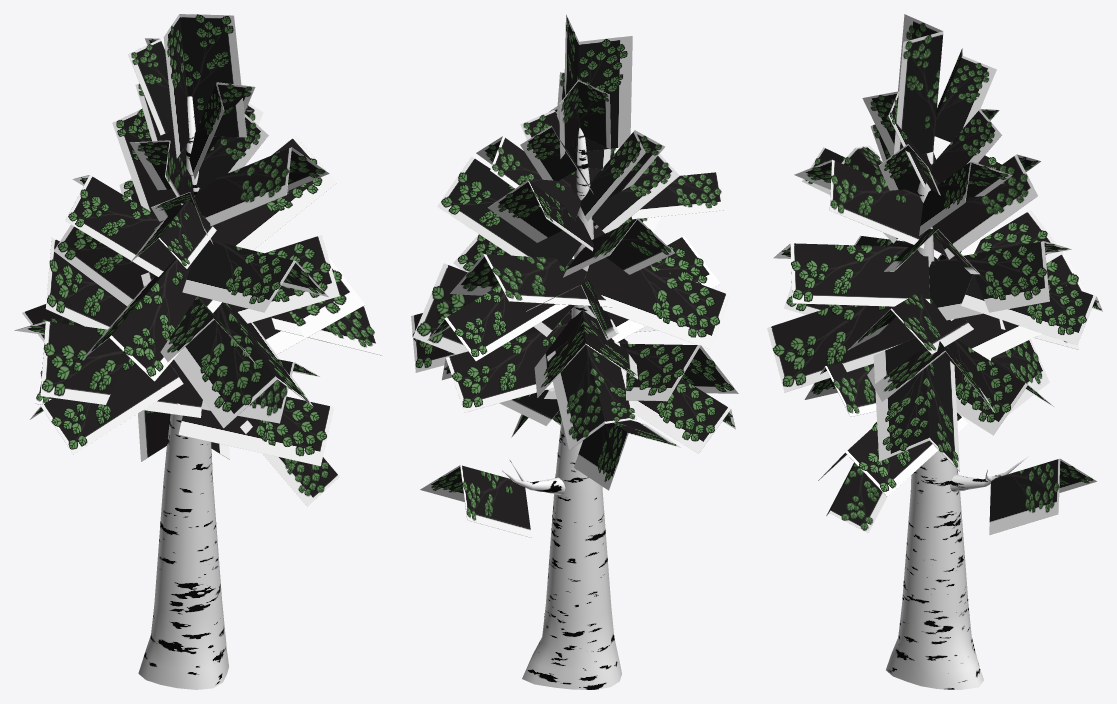
Rendered from birch_tree_2.fbx.
3 renders of one model, left to right at view 1: azimuth 30°, elevation 25°; view 2: azimuth 150°, elevation 25°; view 3: azimuth 270°, elevation 25°, orthographic. The views are drawn at different scales.
Parts seen in each view (by area): view 1: birch 2 leaves, birch tree 2; view 2: birch 2 leaves, birch tree 2; view 3: birch 2 leaves, birch tree 2.
Boxes of the visible parts, x1,y1,x2,y2 form: birch 2 leaves: (14,14,382,506); birch tree 2: (138,96,228,689); birch 2 leaves: (411,14,738,537); birch tree 2: (502,128,621,689); birch 2 leaves: (767,14,1102,534); birch tree 2: (886,149,1028,689).
Bounding box in the file's own units: 1125 × 2132 × 1011.
